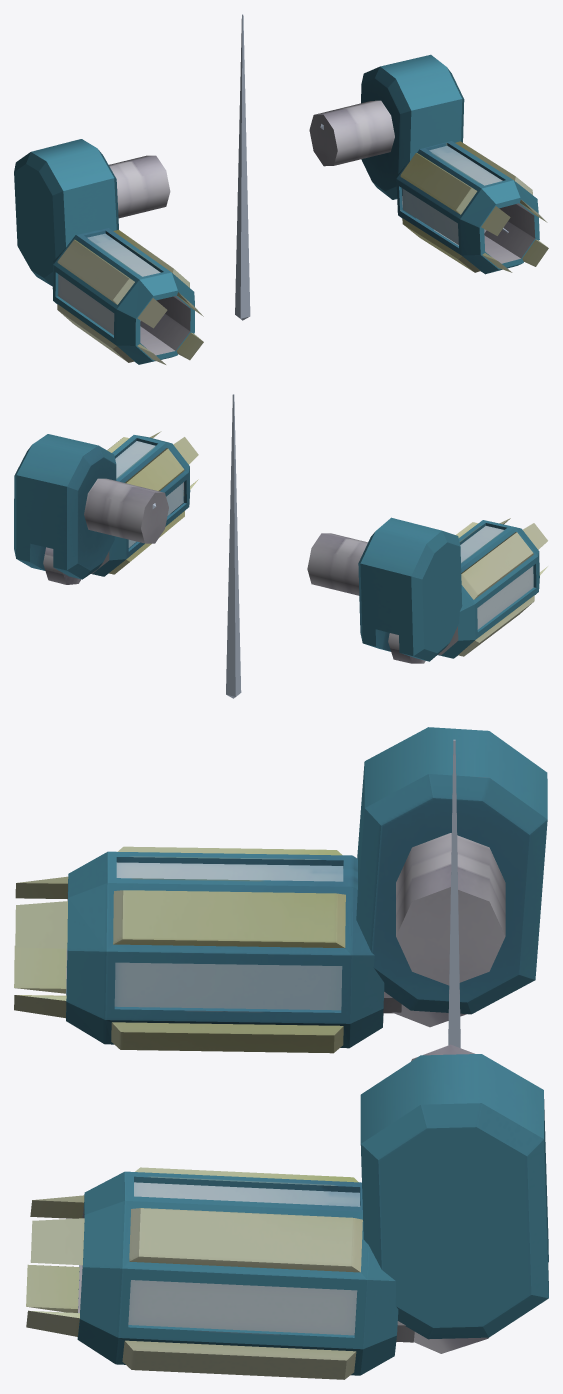
The model's file is player_arm0.obj.
3 renders of one model, top to bottom at view 1: azimuth 30°, elevation 25°; view 2: azimuth 150°, elevation 25°; view 3: azimuth 270°, elevation 25°, orthographic. The views are drawn at different scales.
Visible parts, largest first — view 1: Object009, Object010, Object007, Object008, Object005, Object006, Bone001; view 2: Object007, Object008, Object009, Object010, Object005, Bone001, Object006; view 3: Object009, Object010, Object008, Object007, Object006, Bone001.
Part boxes in pixels (box(x1,y1,x2,y2)): Object009: box(52, 228, 203, 364); Object010: box(396, 141, 548, 274); Object007: box(14, 139, 118, 286); Object008: box(361, 54, 464, 199); Object005: box(309, 100, 394, 166); Object006: box(109, 155, 170, 218); Bone001: box(235, 14, 250, 320); Object007: box(358, 517, 462, 661); Object008: box(14, 434, 116, 579); Object009: box(388, 518, 547, 663); Object010: box(43, 431, 198, 584); Object005: box(84, 478, 168, 543); Bone001: box(226, 394, 241, 698); Object006: box(307, 533, 367, 595); Object009: box(14, 846, 466, 1053); Object010: box(26, 1167, 488, 1379); Object008: box(360, 1054, 548, 1339); Object007: box(356, 727, 547, 1014); Object006: box(396, 833, 505, 985); Bone001: box(448, 739, 460, 1047).
Size of the model in its own units: 175 by 120 by 98.43.
2 materials, 1 textured.
